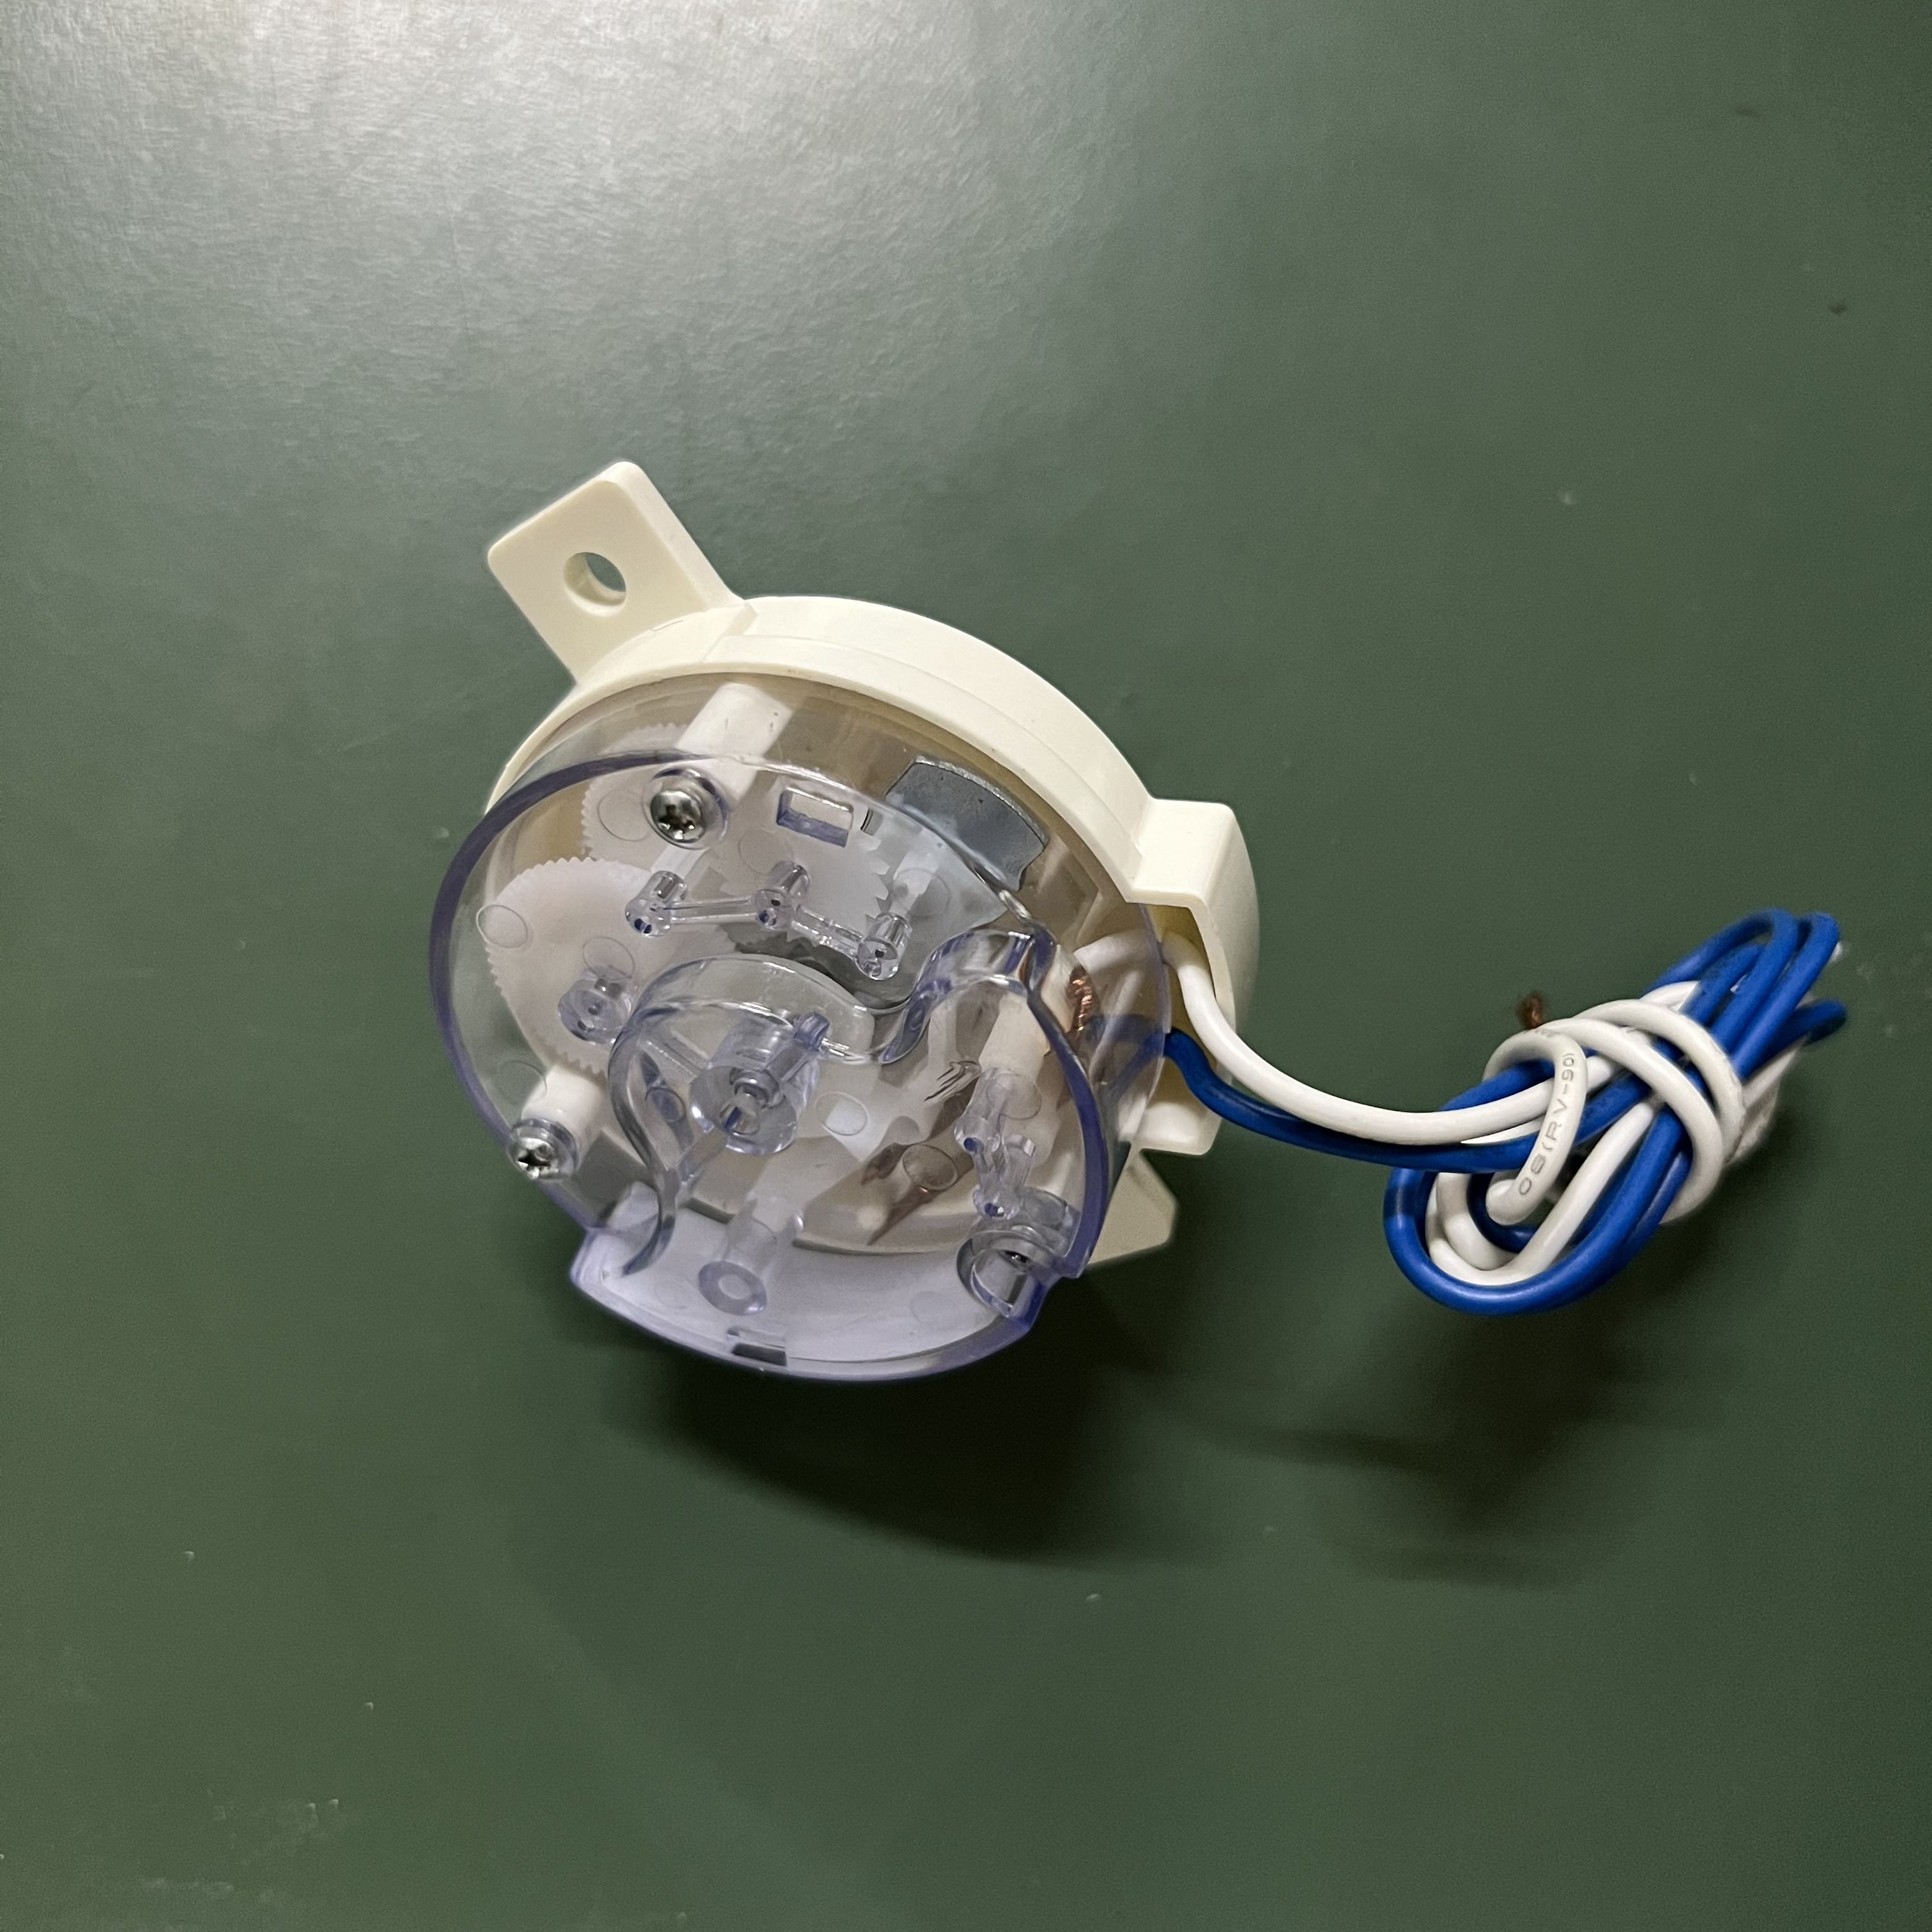circle_timer: (410, 474, 1251, 1389)
